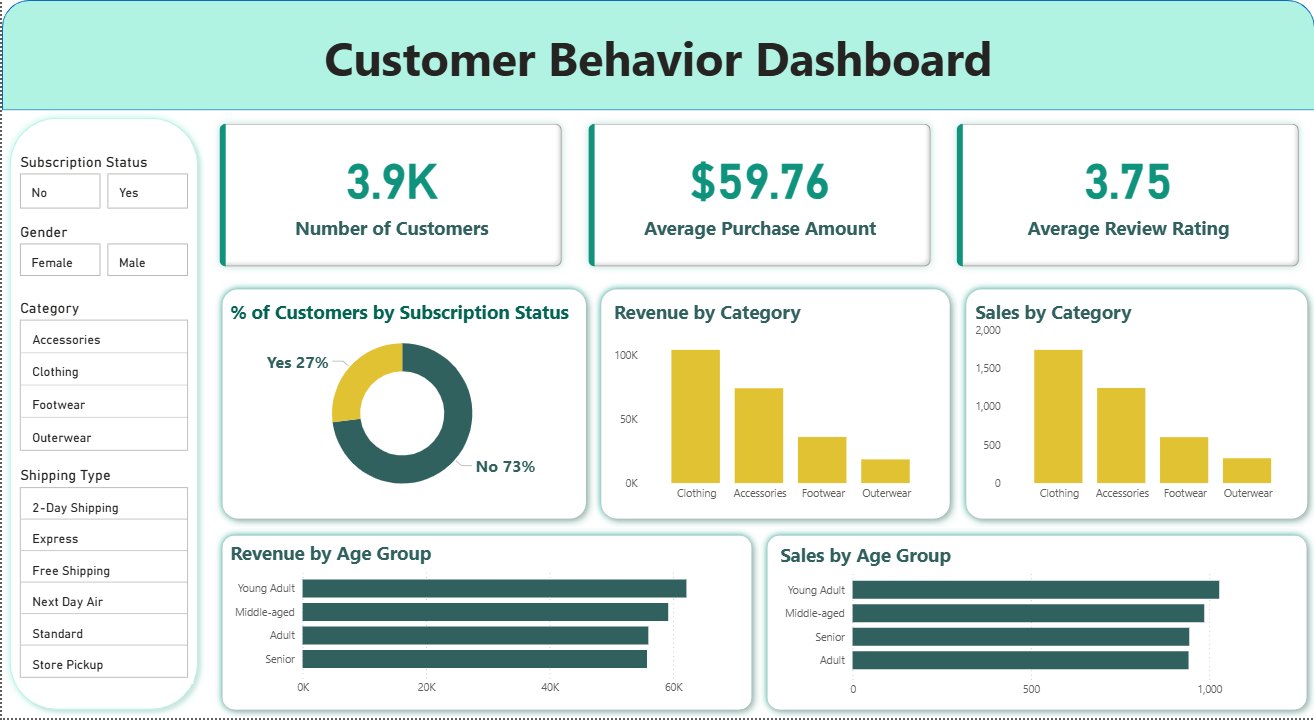

Layout of this report page (visuals, bound fields, positions):
{"tool":"powerbi","page":{"name":"Page 1","canvas":[1500,820],"ordinal":0},"visuals":[{"type":"cardVisual","fields":{"Data":["public customer.Number of Customers","public customer.Average Purchase Amount","public customer.Average Review Rating"]},"box":[232.3,126.1,1268,195.5],"z":0},{"type":"shape","box":[0,0,1500.3,126.1],"z":1000},{"type":"textbox","box":[0,24.1,1500.3,102],"z":2000},{"type":"shape","box":[242.3,321.6,433.5,280.5],"z":3000},{"type":"donutChart","title":"% of Customers by Subscription Status","fields":{"Category":["public customer.subscription_status"],"Y":["CountNonNull(public customer.customer_id)"]},"box":[256.4,341.4,403.8,240.8],"z":4000},{"type":"shape","box":[1092.3,321.6,408,280.5],"z":4002},{"type":"clusteredColumnChart","title":"Sales by Category","fields":{"Category":["public customer.category"],"Y":["CountNonNull(public customer.customer_id)"]},"box":[1106.5,341.4,379.7,240.8],"z":4004},{"type":"shape","box":[675.8,321.6,416.5,280.5],"z":4005},{"type":"clusteredColumnChart","title":"Revenue by Category","fields":{"Y":["Sum(public customer.purchase_amount)"],"Category":["public customer.category"]},"box":[694.2,341.4,379.7,240.8],"z":4006},{"type":"shape","box":[0,125.7,232.9,694.3],"z":4007},{"type":"advancedSlicerVisual","fields":{"Values":["public customer.subscription_status"]},"box":[15.7,174.3,202.9,70],"z":4008},{"type":"advancedSlicerVisual","fields":{"Values":["public customer.gender"]},"box":[15.7,254.3,202.9,67.1],"z":4009},{"type":"advancedSlicerVisual","fields":{"Values":["public customer.category"]},"box":[15.7,341.4,202.9,178.6],"z":4010},{"type":"advancedSlicerVisual","fields":{"Values":["public customer.shipping_type"]},"box":[15.7,532.9,202.9,248.6],"z":4011},{"type":"shape","box":[242.9,602.9,622.9,217.1],"z":4013},{"type":"shape","box":[865.7,602.9,634.3,217.1],"z":4014},{"type":"clusteredBarChart","title":"Revenue by Age Group","fields":{"Y":["Sum(public customer.purchase_amount)"],"Category":["public customer.age_group"]},"box":[255.7,617.1,597.1,187.1],"z":4015},{"type":"clusteredBarChart","title":"Sales by Age Group","fields":{"Y":["CountNonNull(public customer.customer_id)"],"Category":["public customer.age_group"]},"box":[884.3,618.6,597.1,187.1],"z":4016}]}

Visuals, with their boxes in screenshot pixels (x1, y1, x2, y2), scaled from the page's 1500x820 canvas onto the 1314x721 screenshot:
cardVisual - public customer.Number of Customers x public customer.Average Purchase Amount: l=203, t=111, r=1313, b=283
shape: l=0, t=0, r=1313, b=111
textbox: l=0, t=21, r=1313, b=111
shape: l=212, t=283, r=592, b=529
"% of Customers by Subscription Status" donutChart: l=225, t=300, r=578, b=512
shape: l=957, t=283, r=1313, b=529
"Sales by Category" clusteredColumnChart: l=969, t=300, r=1302, b=512
shape: l=592, t=283, r=957, b=529
"Revenue by Category" clusteredColumnChart: l=608, t=300, r=941, b=512
shape: l=0, t=111, r=204, b=720
advancedSlicerVisual - public customer.subscription_status: l=14, t=153, r=191, b=215
advancedSlicerVisual - public customer.gender: l=14, t=224, r=191, b=283
advancedSlicerVisual - public customer.category: l=14, t=300, r=191, b=457
advancedSlicerVisual - public customer.shipping_type: l=14, t=469, r=191, b=687
shape: l=213, t=530, r=758, b=720
shape: l=758, t=530, r=1313, b=720
"Revenue by Age Group" clusteredBarChart: l=224, t=543, r=747, b=707
"Sales by Age Group" clusteredBarChart: l=775, t=544, r=1298, b=708
